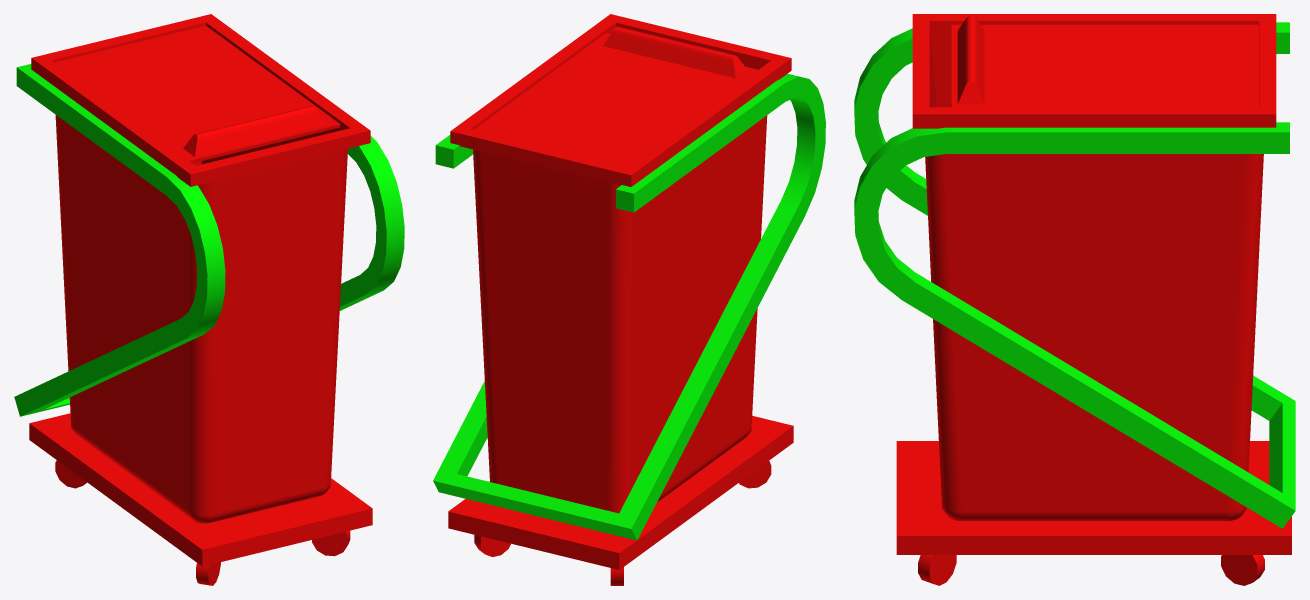
The model's file is Specialized Waste Container_Handles.FBX.
The picture shows the model from 3 angles, left to right: view 1: azimuth 30°, elevation 25°; view 2: azimuth 150°, elevation 25°; view 3: azimuth 270°, elevation 25°; orthographic projection. The views are drawn at different scales.
Parts seen in each view (by area): view 1: Specialized Waste Container_Large; view 2: Specialized Waste Container_Large; view 3: Specialized Waste Container_Large.
Boxes of the visible parts, <box> form: Specialized Waste Container_Large: <box>14,14,404,585</box>; Specialized Waste Container_Large: <box>433,14,825,585</box>; Specialized Waste Container_Large: <box>854,14,1295,585</box>.
Size of the model in its own units: 13.14 by 27.82 by 22.31.
